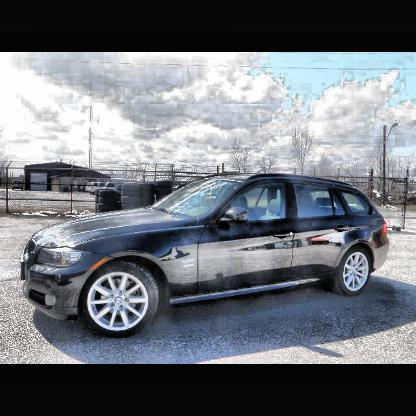BMW 3 Series Wagon 2012: (16, 158, 403, 351)
